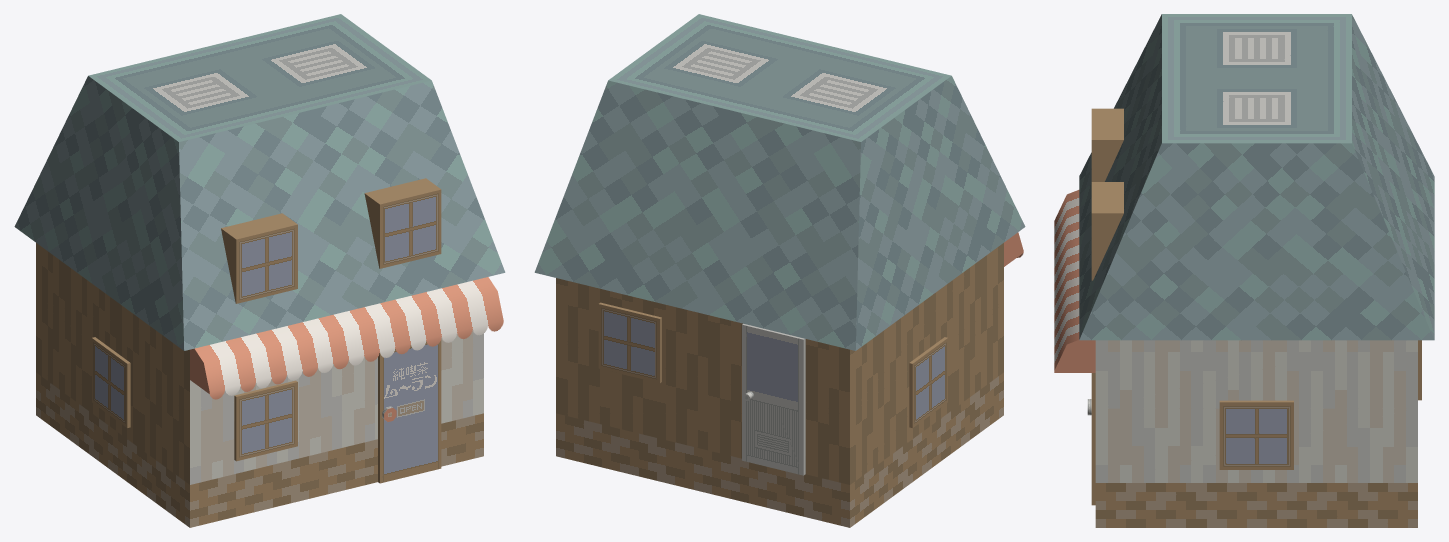
Rendered from 03c9_Cafe.glb.
3 renders of one model, left to right at view 1: azimuth 30°, elevation 25°; view 2: azimuth 150°, elevation 25°; view 3: azimuth 270°, elevation 25°, orthographic. The views are drawn at different scales.
Parts seen in each view (by area): view 1: part_0; view 2: part_0; view 3: part_0.
Boxes of the visible parts, x1=… form: part_0: x1=14, y1=14, x2=505, y2=527; part_0: x1=534, y1=14, x2=1025, y2=527; part_0: x1=1054, y1=14, x2=1434, y2=527.
Size of the model in its own units: 4.7 by 5 by 4.6.
Materials: 1 (1 with a texture image).
